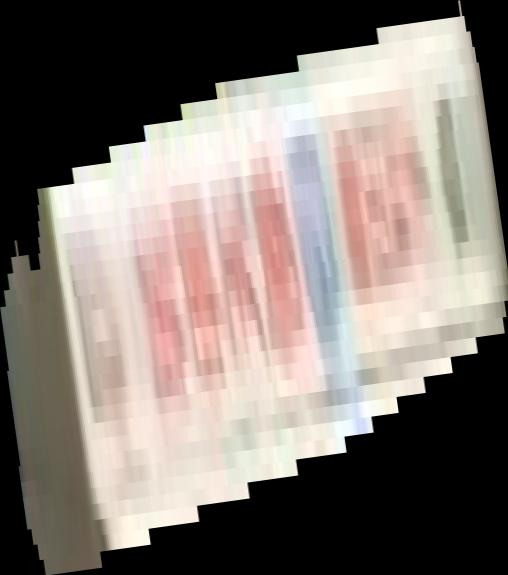flat: (1, 1, 508, 575)
